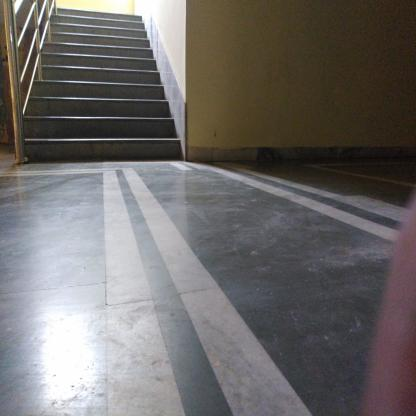stairs: (57, 16, 144, 168)
